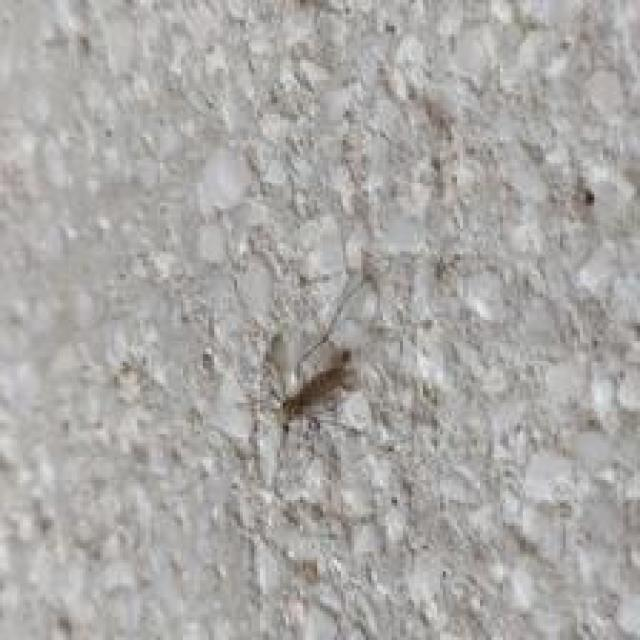Culex: (273, 347, 356, 433)
